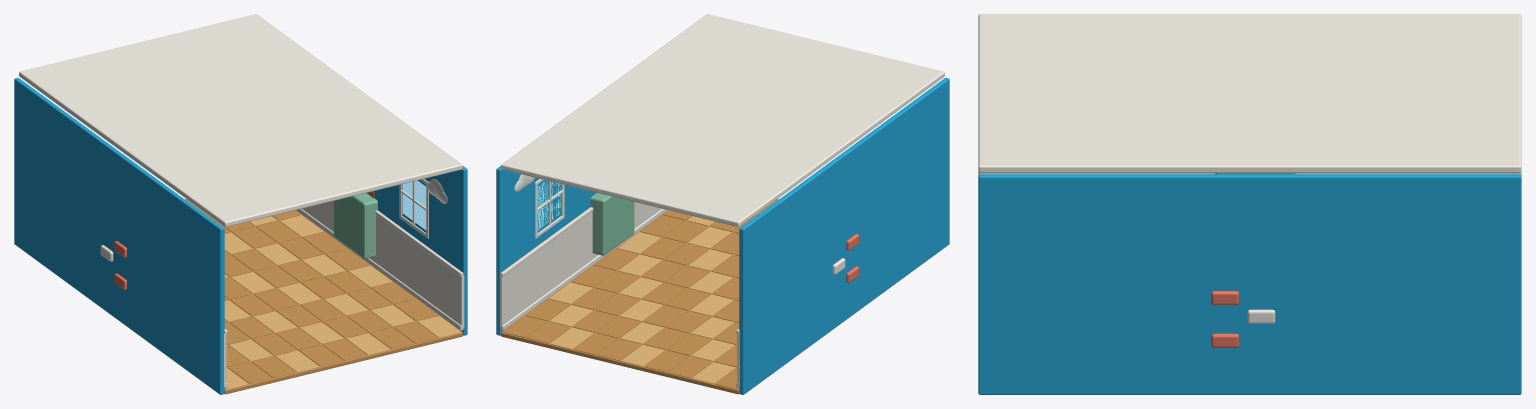
File: toybox_bedroom_run_shell.glb
3 renders of one model, left to right at view 1: azimuth 30°, elevation 25°; view 2: azimuth 150°, elevation 25°; view 3: azimuth 270°, elevation 25°, orthographic. The views are drawn at different scales.
Parts seen in each view (by area): view 1: Continuous Ivory Ceiling, Left Sky Wallpaper, Right White Wainscot, Right Sky Wallpaper, Continuous Honey Maple Floor, Right Shelf Shelf Body, Right Baseboard, Right Far Window Glass, Right Chair Rail, Floor Plank 04-05, Floor Plank 01-03, Floor Plank 01-08 (+40 smaller); view 2: Continuous Ivory Ceiling, Left Sky Wallpaper, Right Sky Wallpaper, Right White Wainscot, Continuous Honey Maple Floor, Right Shelf Shelf Body, Right Baseboard, Right Chair Rail, Floor Plank 06-05, Floor Plank 05-07, Floor Plank 05-09, Floor Plank 06-07 (+40 smaller); view 3: Right Sky Wallpaper, Continuous Ivory Ceiling, Left White Wainscot.
Part boxes in pixels (box(x1,y1,x2,y2)): Continuous Ivory Ceiling: box(19, 14, 462, 227); Left Sky Wallpaper: box(14, 77, 224, 394); Right White Wainscot: box(302, 201, 464, 328); Right Sky Wallpaper: box(373, 166, 467, 335); Continuous Honey Maple Floor: box(185, 199, 462, 394); Right Shelf Shelf Body: box(334, 193, 377, 258); Right Baseboard: box(296, 209, 463, 330); Right Far Window Glass: box(402, 180, 426, 230); Right Chair Rail: box(375, 210, 463, 276); Floor Plank 04-05: box(230, 294, 274, 316); Floor Plank 01-03: box(252, 356, 295, 378); Floor Plank 01-08: box(370, 327, 413, 349); Continuous Ivory Ceiling: box(501, 14, 944, 227); Left Sky Wallpaper: box(739, 77, 949, 394); Right Sky Wallpaper: box(496, 166, 596, 335); Right White Wainscot: box(499, 202, 661, 328); Continuous Honey Maple Floor: box(501, 199, 778, 394); Right Shelf Shelf Body: box(590, 193, 634, 255); Right Baseboard: box(500, 209, 667, 330); Right Chair Rail: box(500, 207, 593, 276); Floor Plank 06-05: box(689, 294, 733, 316); Floor Plank 05-07: box(665, 266, 709, 287); Floor Plank 05-09: box(618, 254, 662, 276); Floor Plank 06-07: box(642, 283, 686, 304); Right Sky Wallpaper: box(978, 174, 1521, 394); Continuous Ivory Ceiling: box(978, 14, 1521, 172); Left White Wainscot: box(978, 171, 1521, 175).
Size of the model in its own units: 12.76 by 8.29 by 18.
